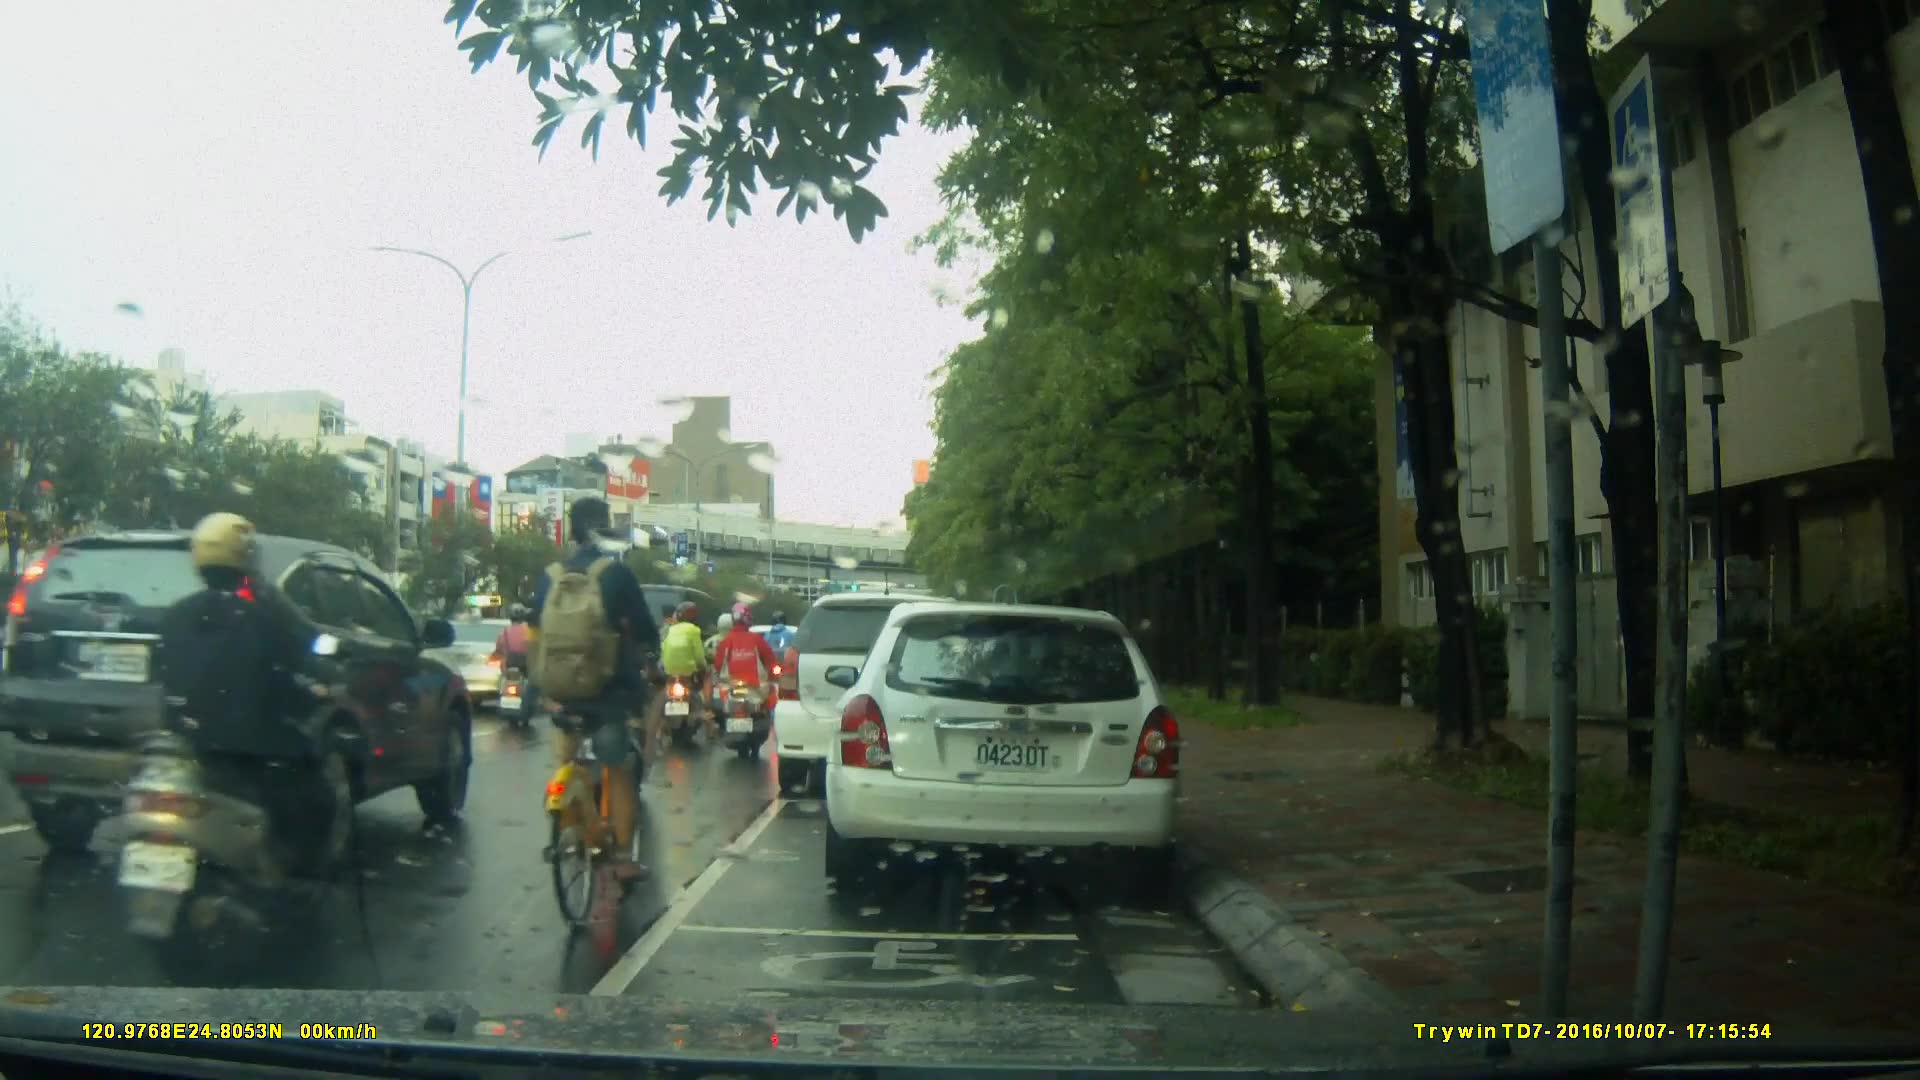rider: (119, 507, 348, 1003), (537, 499, 664, 942), (702, 600, 773, 761), (653, 601, 716, 749), (492, 607, 551, 724), (756, 605, 808, 726), (699, 611, 754, 723)
vehicle: (13, 526, 474, 862), (822, 604, 1188, 883), (774, 595, 995, 802), (349, 610, 550, 720)
